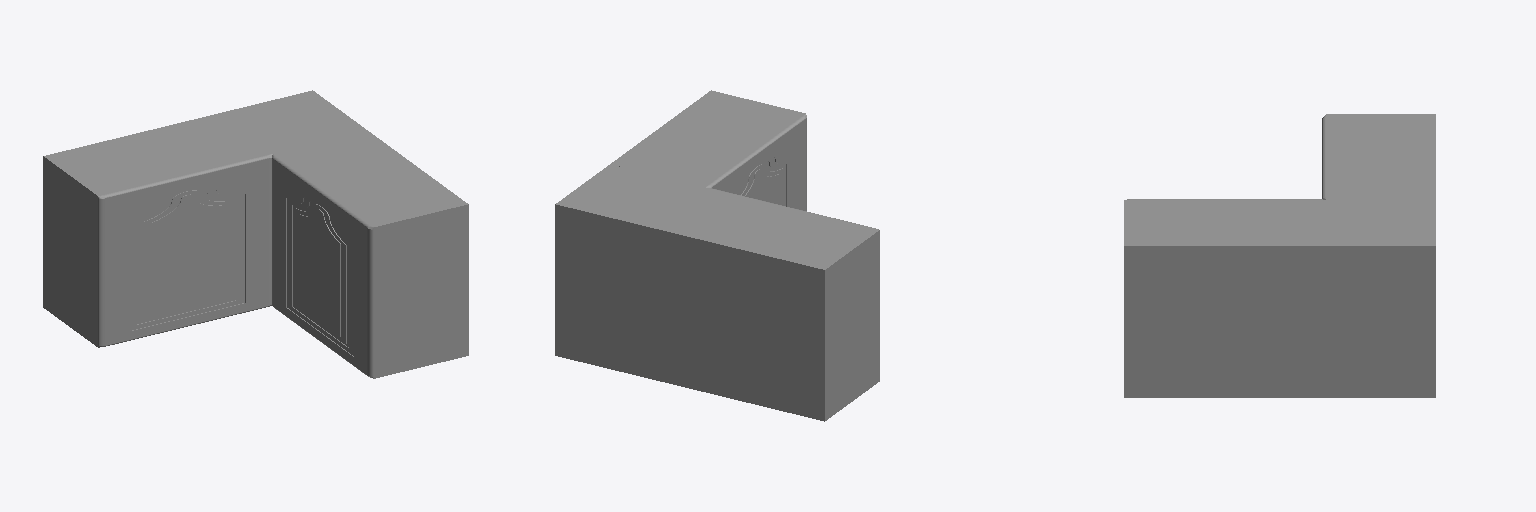
Rendered from corner-base-unit-1050.obj.
3 views of the same model, side by side, from view 1: azimuth 30°, elevation 25°; view 2: azimuth 150°, elevation 25°; view 3: azimuth 270°, elevation 25° (orthographic).
Visible parts, largest first — view 1: Cube.003_Cube.008, Cube.004_Cube.000, Cube.005, Cube_Cube.002, Cube.001, Cube.002_Cube.004, Cube.006; view 2: Cube_Cube.002, Cube.006, Cube.001, Cube.002_Cube.004, Cube.004_Cube.000; view 3: Cube.001, Cube.006, Cube_Cube.002, Cube.005.
Part boxes in pixels (x1,y1,x2,y2): Cube.003_Cube.008: (98,154,272,347); Cube.004_Cube.000: (272,154,373,378); Cube.005: (372,203,468,378); Cube_Cube.002: (46,114,272,195); Cube.001: (273,131,465,225); Cube.002_Cube.004: (43,156,99,346); Cube.006: (218,90,367,152); Cube_Cube.002: (650,187,876,420); Cube.006: (555,164,704,378); Cube.001: (611,91,803,186); Cube.002_Cube.004: (822,229,879,421); Cube.004_Cube.000: (706,114,806,210); Cube.001: (1127,200,1325,397); Cube.006: (1326,200,1435,397); Cube_Cube.002: (1326,116,1435,199); Cube.005: (1124,200,1126,397).
Bounding box in the file's own units: 324 × 174 × 324.